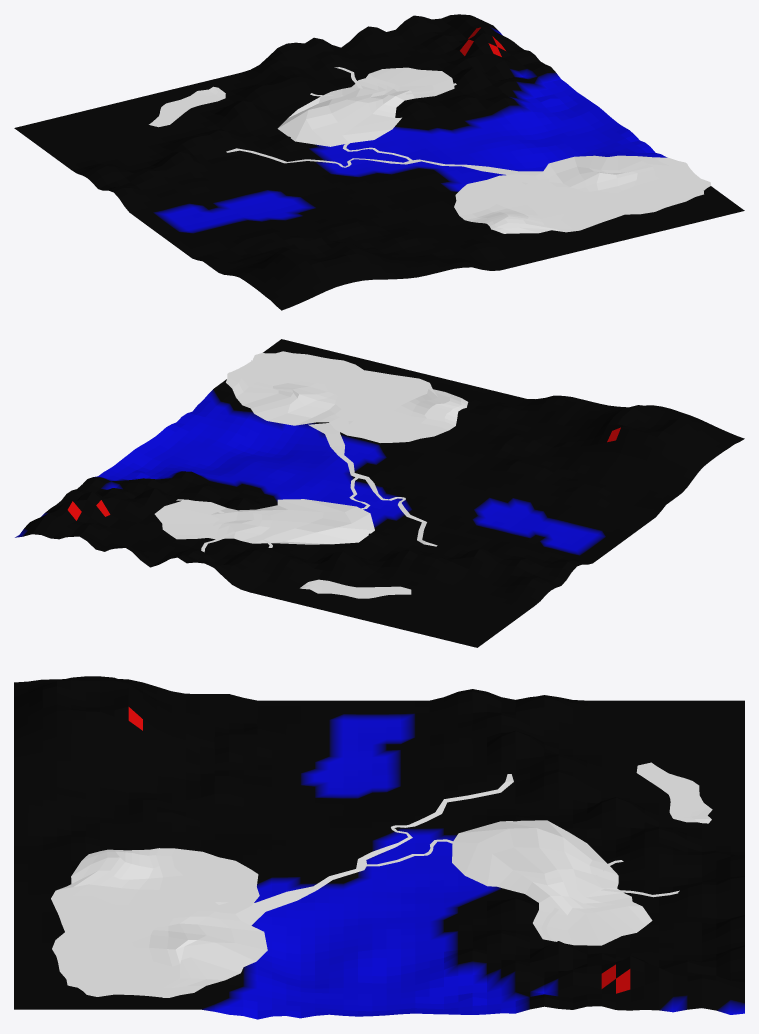
The model's file is world_landscape.glb.
The picture shows the model from 3 angles, top to bottom: view 1: azimuth 30°, elevation 25°; view 2: azimuth 150°, elevation 25°; view 3: azimuth 270°, elevation 25°; orthographic projection. The views are drawn at different scales.
Visible parts, largest first — view 1: geo, elder wood, northwood, Pale River, The Still Lake; view 2: geo, elder wood, northwood, Pale River, The Still Lake; view 3: geo, elder wood, northwood, Pale River, The Still Lake.
Boxes of the visible parts, x1=… form: geo: x1=14, y1=14, x2=744, y2=310; elder wood: x1=454, y1=155, x2=710, y2=233; northwood: x1=277, y1=67, x2=454, y2=146; Pale River: x1=226, y1=67, x2=542, y2=184; The Still Lake: x1=149, y1=86, x2=225, y2=127; geo: x1=15, y1=339, x2=744, y2=647; elder wood: x1=226, y1=351, x2=468, y2=442; northwood: x1=154, y1=499, x2=374, y2=544; Pale River: x1=176, y1=420, x2=437, y2=552; The Still Lake: x1=300, y1=579, x2=411, y2=598; geo: x1=14, y1=676, x2=744, y2=1019; elder wood: x1=51, y1=848, x2=267, y2=997; northwood: x1=452, y1=820, x2=652, y2=945; Pale River: x1=215, y1=774, x2=679, y2=940; The Still Lake: x1=636, y1=762, x2=712, y2=823.
Bounding box in the file's own units: 2000 × 216 × 2000.
